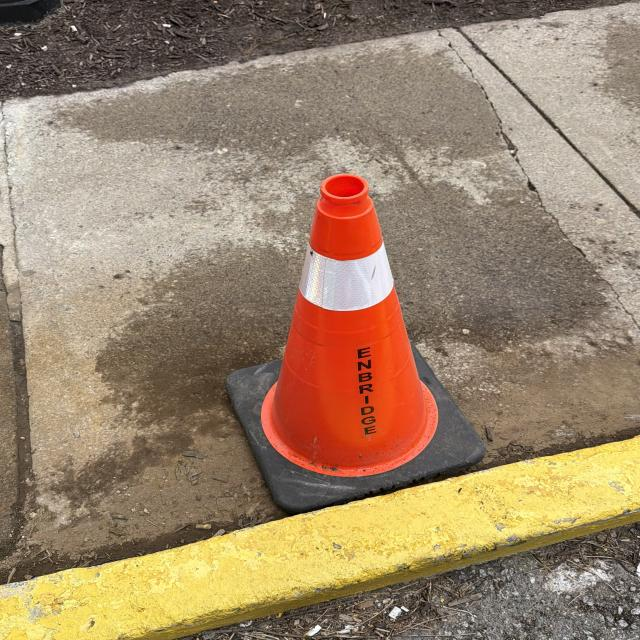Traffic Cone: (222, 173, 490, 512)
